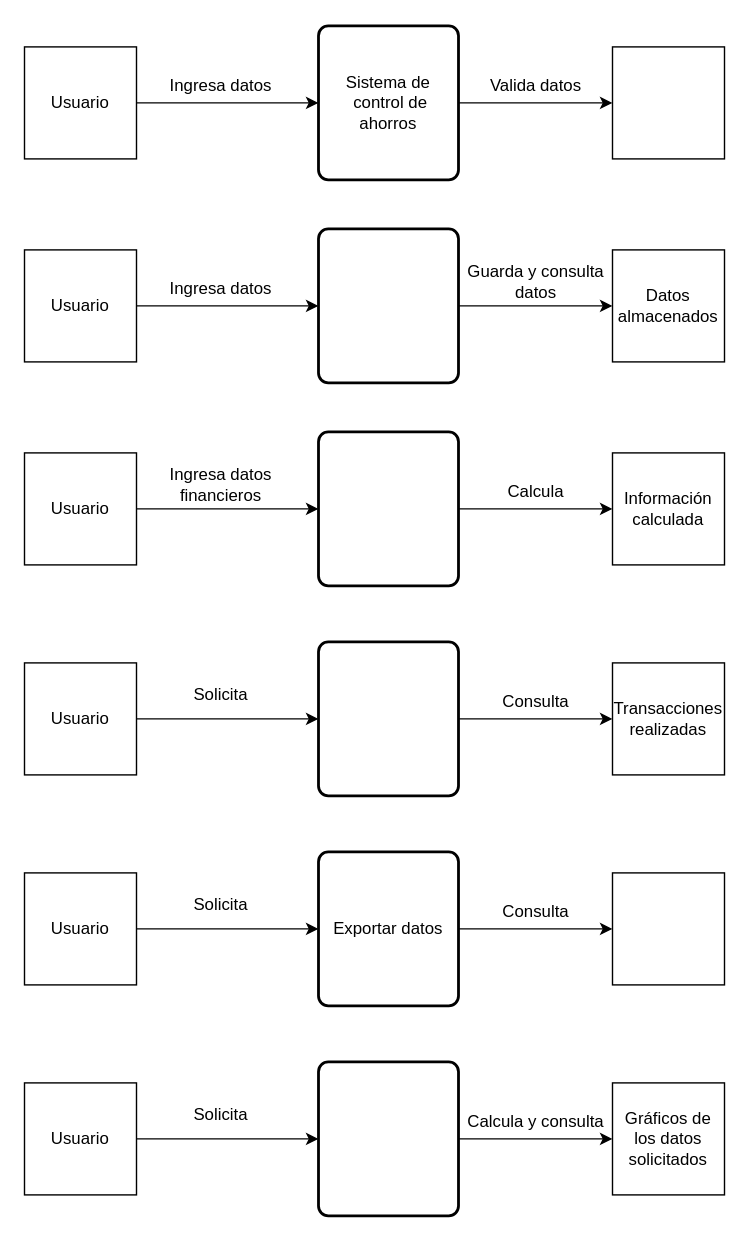
This 749x1240 diagram has some shape labels left out. Here are the shapes that lost their labels. From the top down, the box of each, then its label:
(611, 46, 724, 159): Validez de datos
(316, 227, 459, 384): Base de datos
(316, 430, 459, 587): Predicción de ingresos/gastos
(316, 640, 459, 797): Historial de transacciones
(611, 872, 724, 985): Datos exportados en un archivo
(316, 1060, 459, 1217): Gráficos
